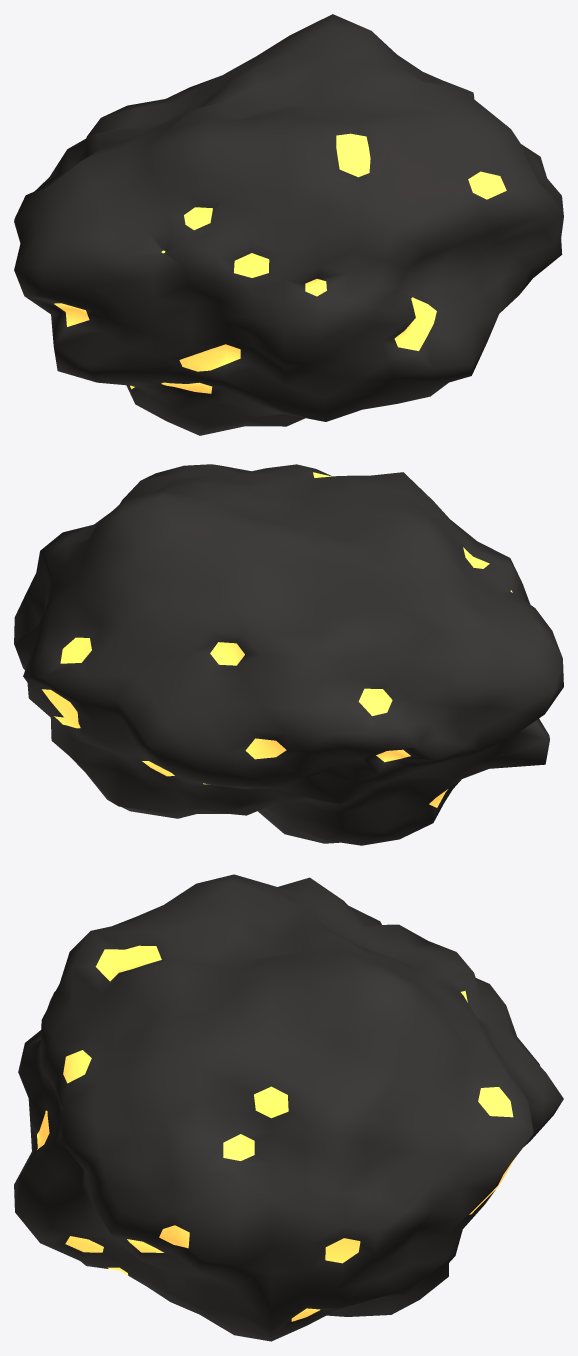
Rendered from bomb_1.glb.
The picture shows the model from 3 angles, top to bottom: view 1: azimuth 30°, elevation 25°; view 2: azimuth 150°, elevation 25°; view 3: azimuth 270°, elevation 25°; orthographic projection. The views are drawn at different scales.
Visible parts, largest first — view 1: bomb_1; view 2: bomb_1; view 3: bomb_1.
Part boxes in pixels (x1,y1,x2,y2): bomb_1: (14, 14, 563, 435); bomb_1: (14, 464, 563, 845); bomb_1: (14, 874, 563, 1341).
Size of the model in its own units: 1.33 by 0.8221 by 1.09.
